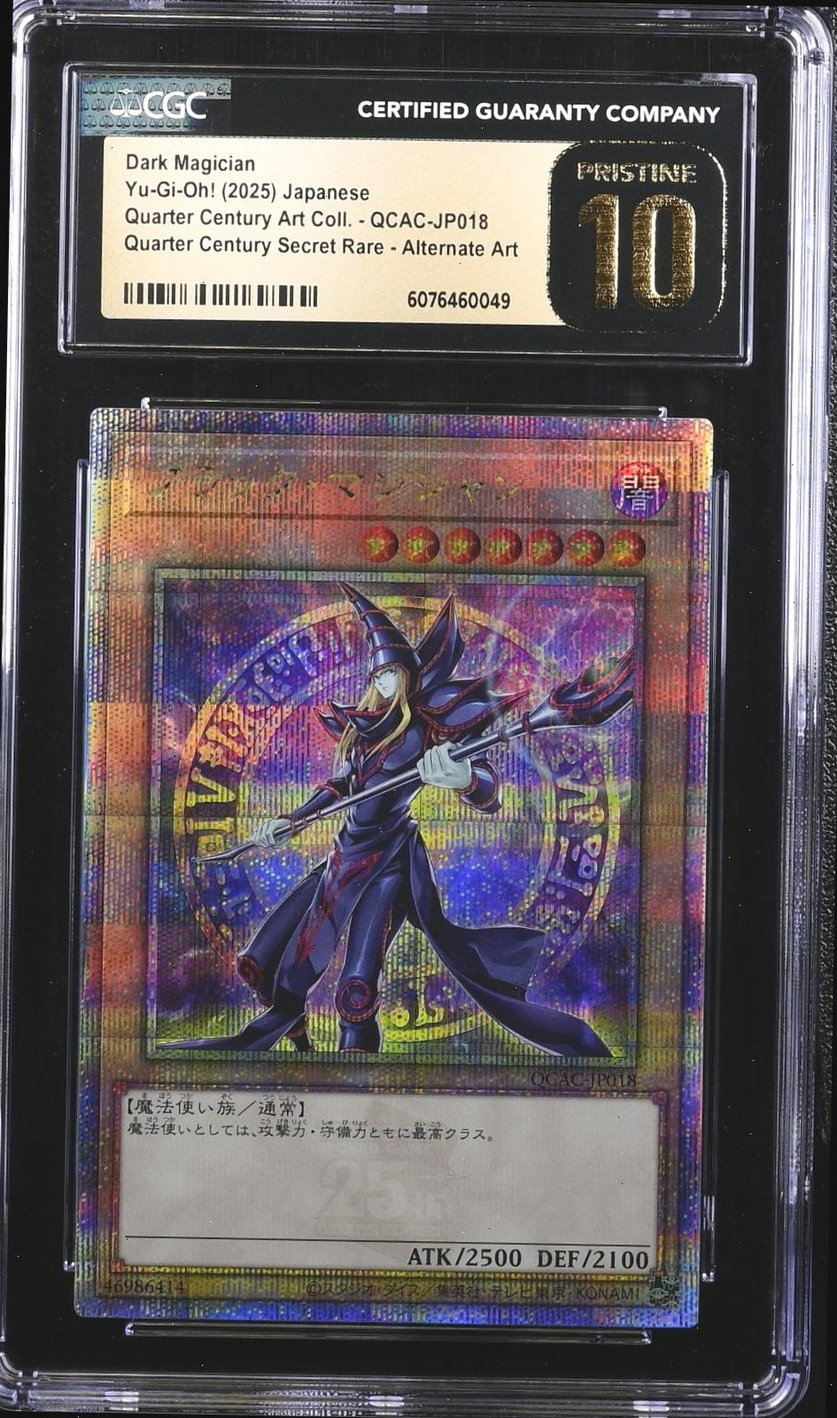card-2UtV: (72, 407, 713, 1329)
